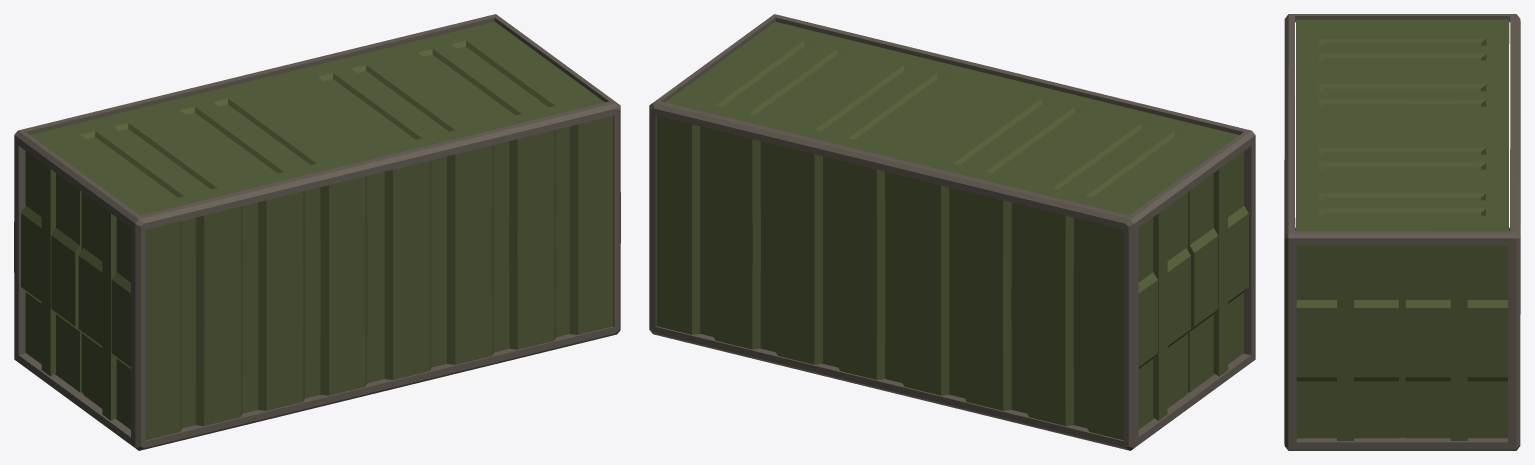
Rendered from ds_container.glb.
3 views of the same model, side by side, from view 1: azimuth 30°, elevation 25°; view 2: azimuth 150°, elevation 25°; view 3: azimuth 270°, elevation 25° (orthographic). The views are drawn at different scales.
Parts seen in each view (by area): view 1: ds_container; view 2: ds_container; view 3: ds_container.
Boxes of the visible parts, <box> form: ds_container: <box>14,14,620,450</box>; ds_container: <box>649,14,1255,450</box>; ds_container: <box>1284,14,1520,450</box>.
Bounding box in the file's own units: 5.71 × 2.6 × 2.56.
